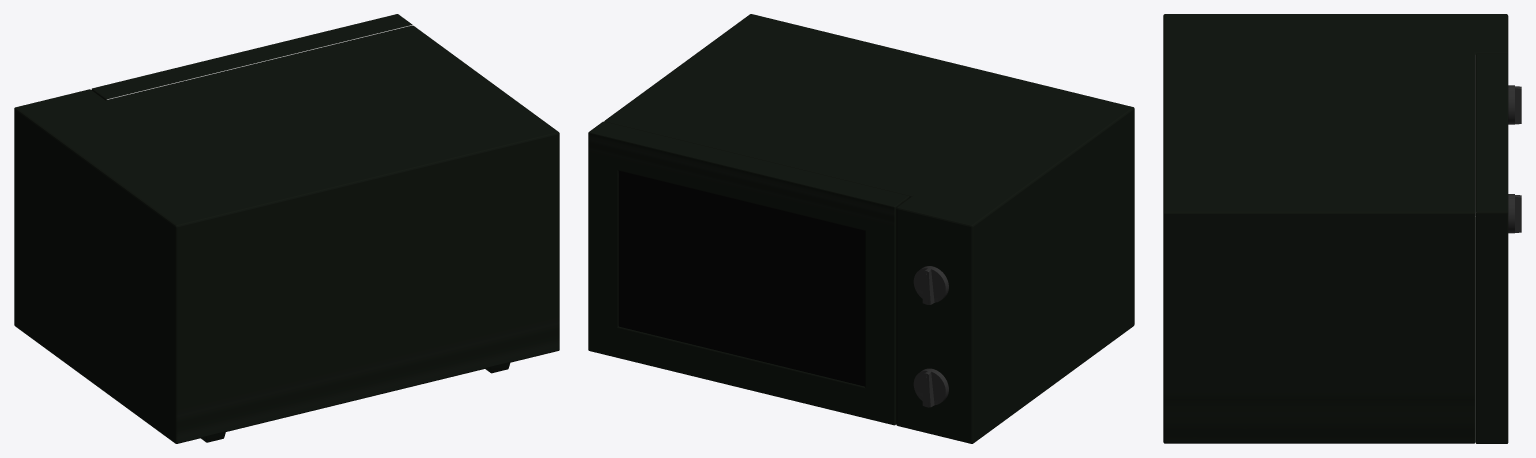
The model's file is MicrowaveOven06.glb.
3 renders of one model, left to right at view 1: azimuth 30°, elevation 25°; view 2: azimuth 150°, elevation 25°; view 3: azimuth 270°, elevation 25°, orthographic. The views are drawn at different scales.
Visible parts, largest first — view 1: MicrowaveOven06_model, MicrowaveOven06_Door; view 2: MicrowaveOven06_model, MicrowaveOven06_Glass, MicrowaveOven06_Door, MicrowaveOven06_Knob02, MicrowaveOven06_Knob01; view 3: MicrowaveOven06_model, MicrowaveOven06_Door, MicrowaveOven06_Knob01, MicrowaveOven06_Knob02.
Part boxes in pixels (x1,y1,x2,y2): MicrowaveOven06_model: (14,25,559,443); MicrowaveOven06_Door: (91,14,412,100); MicrowaveOven06_model: (604,14,1134,443); MicrowaveOven06_Glass: (618,170,865,386); MicrowaveOven06_Door: (588,121,909,425); MicrowaveOven06_Knob02: (913,368,948,407); MicrowaveOven06_Knob01: (913,266,948,304); MicrowaveOven06_model: (1163,14,1508,443); MicrowaveOven06_Door: (1475,54,1508,443); MicrowaveOven06_Knob01: (1508,85,1521,124); MicrowaveOven06_Knob02: (1508,194,1521,233).
Bounding box in the file's own units: 1.26 × 0.7348 × 0.9577.
Materials: 2 (1 with a texture image).
